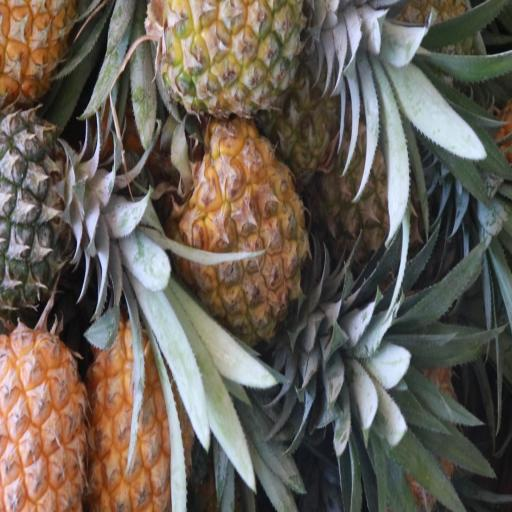------------------------------: (318, 118, 420, 268)
Pineapple - v8 v1: (173, 118, 306, 344), (88, 325, 196, 512), (156, 0, 305, 115), (0, 329, 90, 510)
